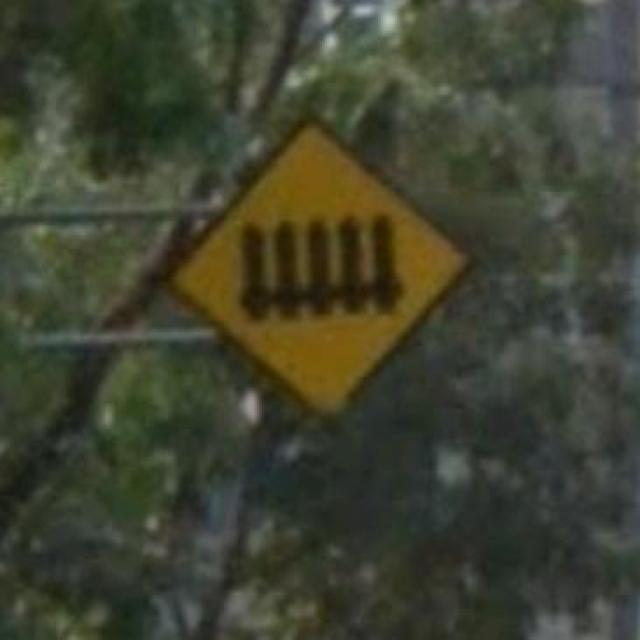traffic sign: (182, 128, 458, 407)
